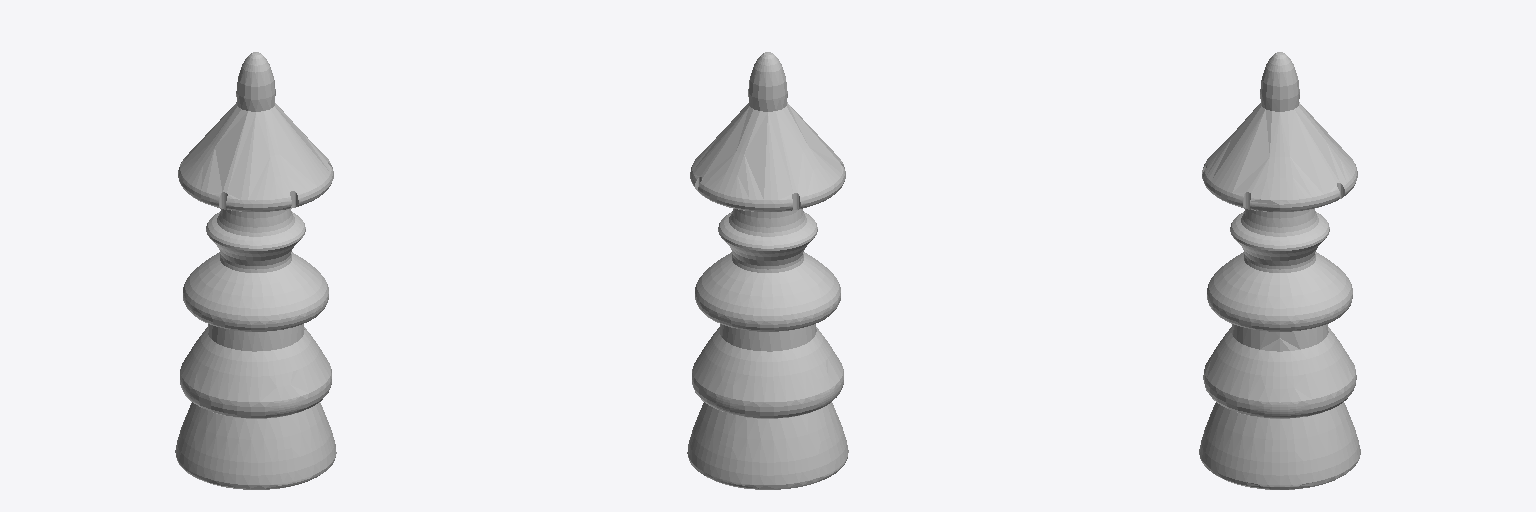
File: whiteKing.obj
3 views of the same model, side by side, from view 1: azimuth 30°, elevation 25°; view 2: azimuth 150°, elevation 25°; view 3: azimuth 270°, elevation 25° (orthographic).
Parts seen in each view (by area): view 1: Obj_000011; view 2: Obj_000011; view 3: Obj_000011.
Part boxes in pixels (x1,y1,x2,y2): Obj_000011: (175, 52, 336, 489); Obj_000011: (687, 52, 848, 489); Obj_000011: (1199, 52, 1360, 489).
Size of the model in its own units: 3.74 by 10.37 by 3.74.